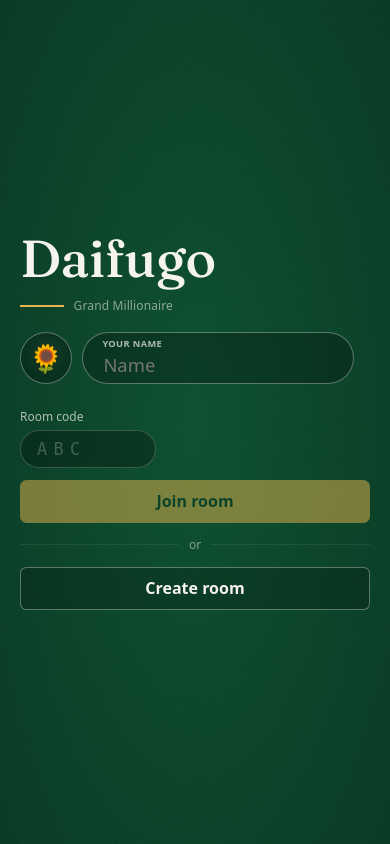
Test: Lobby › shows the roster the deal would take, not just the seated one (§7.7, §8.6)
Type "Will" into the field labelled "Your name". click: (218, 358)
box: [82, 332, 354, 384]
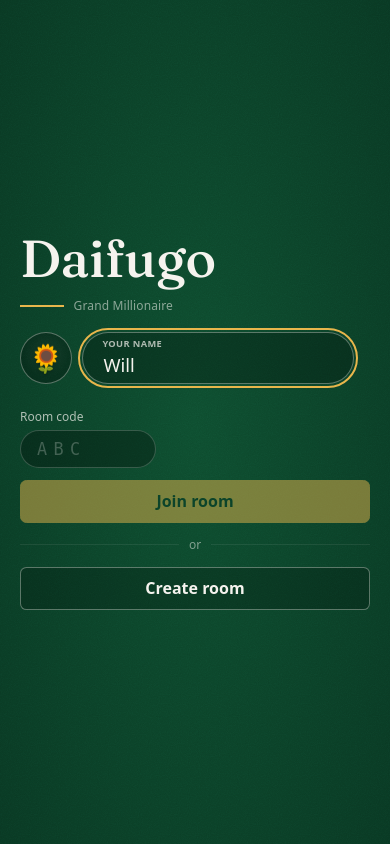
Type "ABC234" into the field labelled "Room code". click: (88, 449)
box: [20, 430, 156, 468]
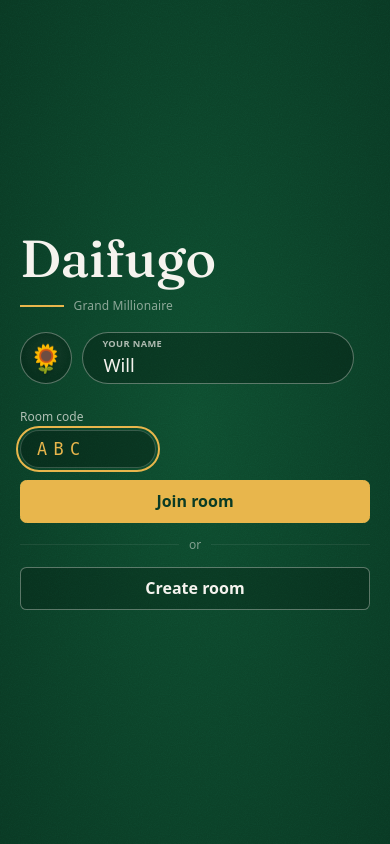
Click the button "Join room". click: (195, 501)
box: [20, 480, 370, 523]
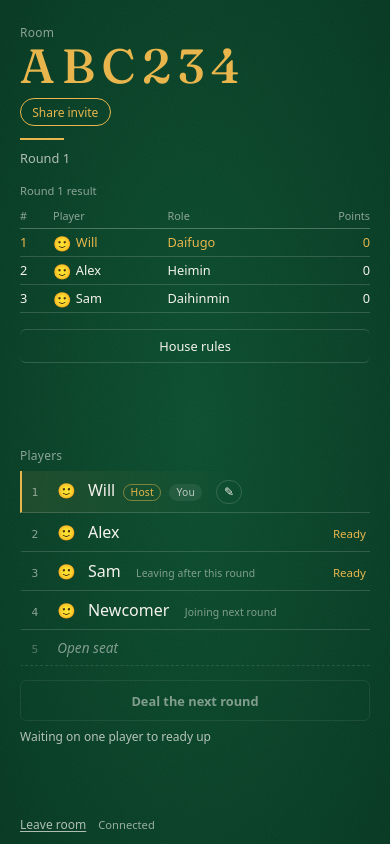
Check: the text "Joining next round" is shown, box [177, 603, 284, 621]
Check: the text "Leaving after this round" is shown, box [129, 564, 263, 582]
